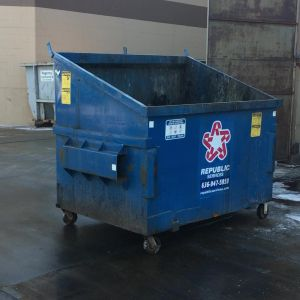Dumpster: (45, 40, 281, 256)
